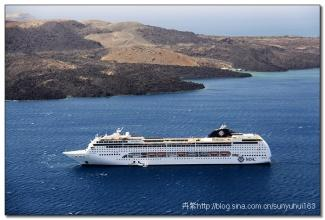youlun: (62, 113, 276, 169)
